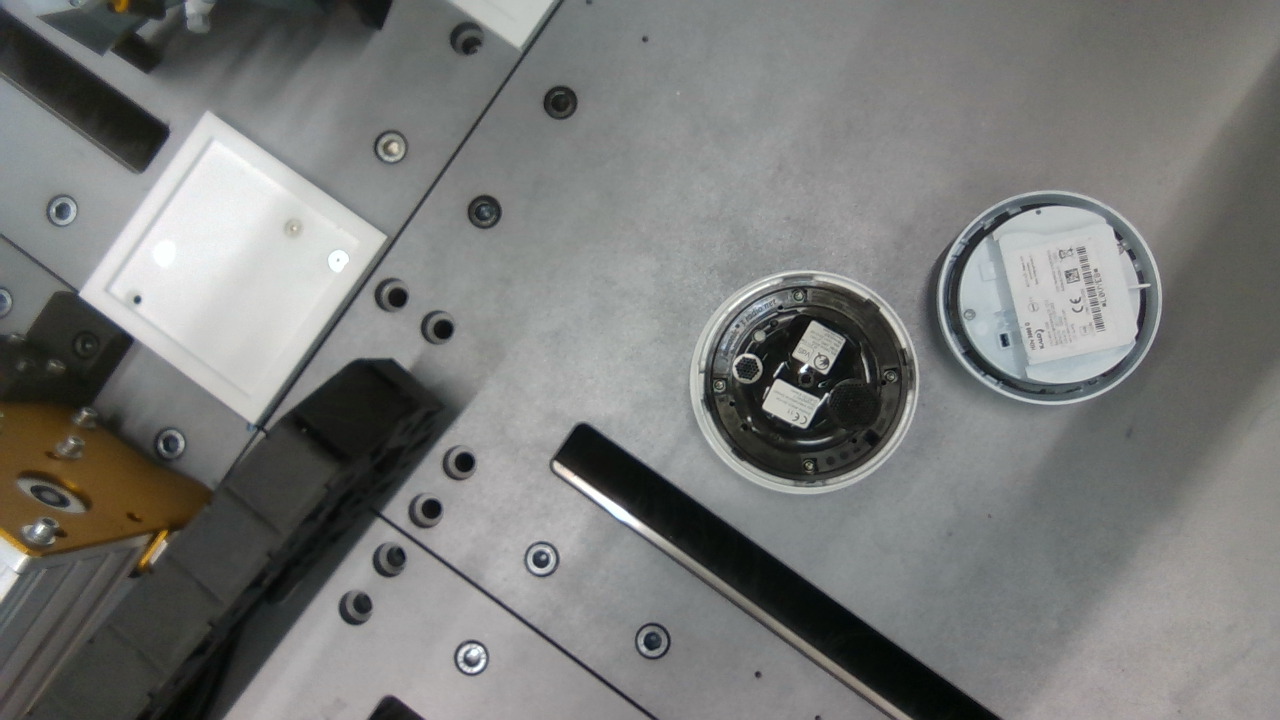HexScrew: (888, 367, 901, 388), (964, 308, 978, 324), (711, 381, 727, 393), (792, 289, 804, 303), (805, 460, 816, 472)
